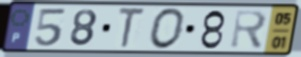5: (32, 7, 69, 48)
8: (69, 9, 99, 48), (200, 9, 226, 50)
O: (148, 7, 188, 51)
R: (228, 8, 270, 51)
T: (117, 7, 147, 51)
